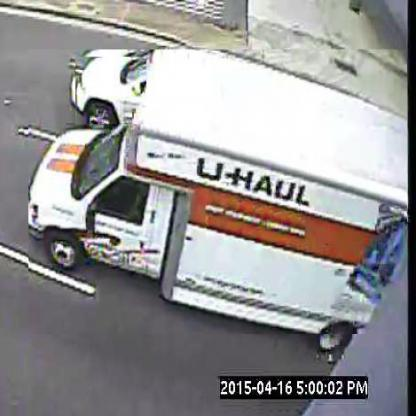car: (77, 58, 149, 126)
truck: (29, 51, 409, 337)
